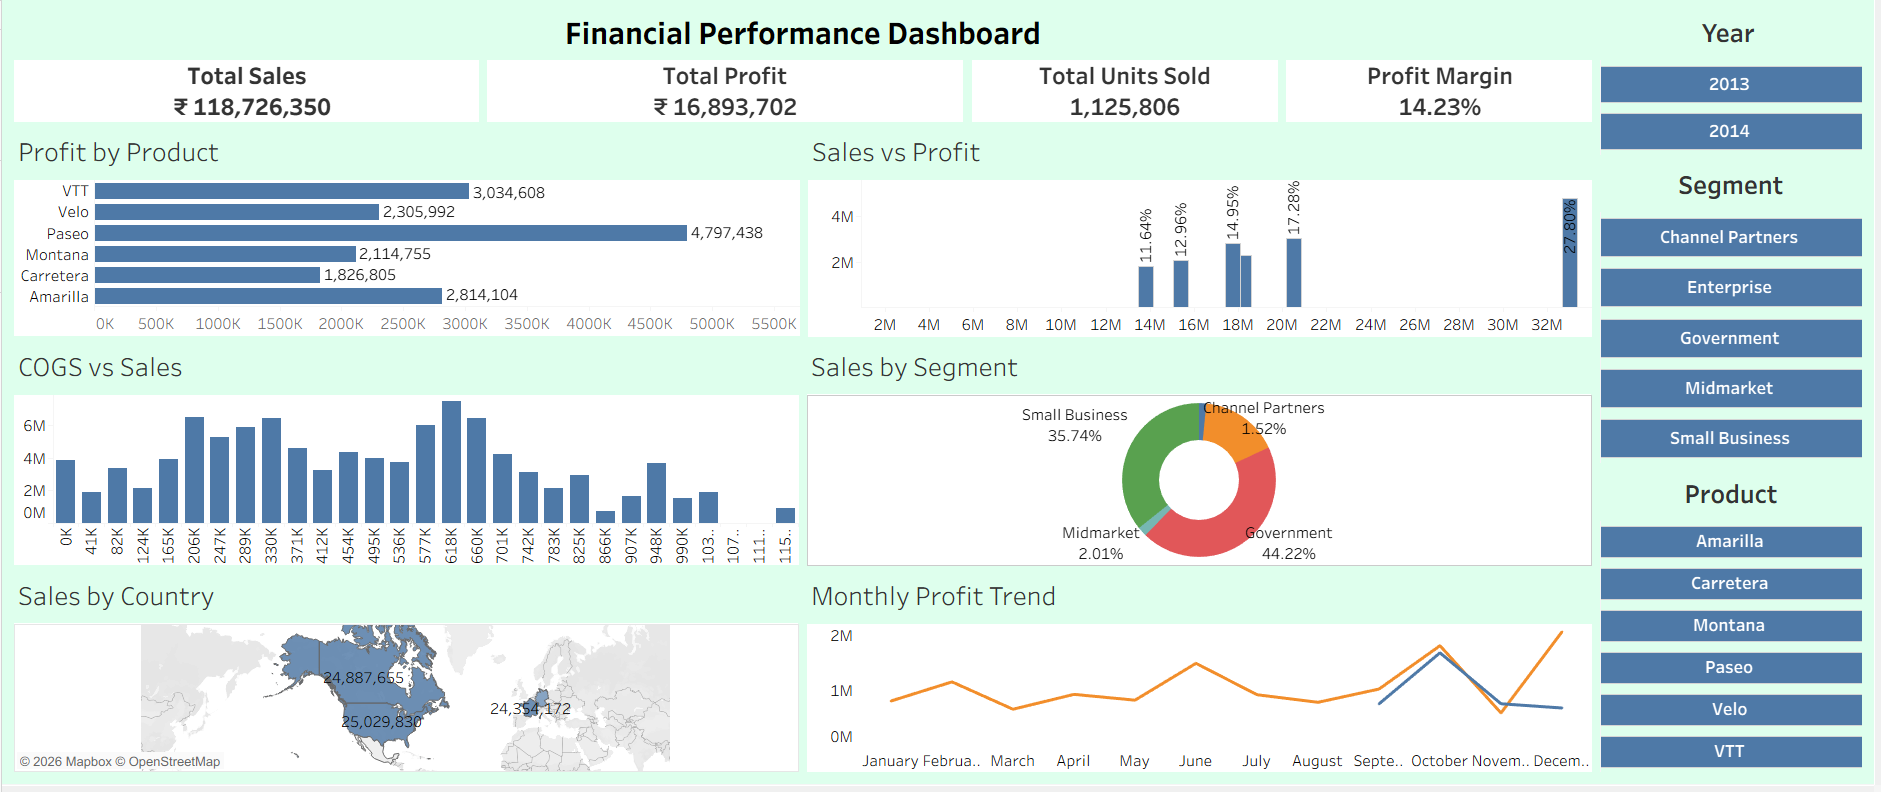

The dashboard page shown, as its layout file describes it:
{"tool":"tableau","page":{"name":"Dashboard 1","canvas":[1000,1000],"units":"permille","ordinal":0},"visuals":[{"type":"title","box":[4.8,10.2,846.5,62.4]},{"type":"worksheet","title":"Year ","mark":"Automatic","rows":["Year"],"cols":["Calculation_0629792956542977"],"box":[851.3,10.2,143.8,193.9]},{"type":"worksheet","title":"Total Sales","mark":"Automatic","box":[4.8,72.6,252.6,89.8]},{"type":"worksheet","title":"Total profit","mark":"Automatic","box":[257.4,72.6,258.4,89.8]},{"type":"worksheet","title":"Total Units Sold","mark":"Automatic","box":[515.8,72.6,167.7,89.8]},{"type":"worksheet","title":"Profit Margin","mark":"Automatic","box":[683.5,72.6,167.8,89.8]},{"type":"worksheet","title":"Profit by Product","mark":"Automatic","rows":["Product"],"cols":["Profit"],"box":[4.8,162.4,423.5,273.3]},{"type":"worksheet","title":"Sales vs Profit","mark":"Bar","rows":["Profit"],"cols":["Sales"],"box":[428.4,162.4,422.9,273.3]},{"type":"worksheet","title":"Segment","mark":"Automatic","rows":["Segment"],"cols":["Calculation_0629792957677571"],"box":[851.3,204.1,143.8,392.9]},{"type":"worksheet","title":"COGS vs Sales","mark":"Automatic","rows":["COGS"],"cols":["Sales (bin)"],"box":[4.8,435.7,423.2,291.7]},{"type":"worksheet","title":"Sales by Segment","mark":"Pie","rows":["Calculation_2752674991734790","Calculation_2752674991849480"],"box":[428.1,435.7,423.2,291.7]},{"type":"worksheet","title":"Product","mark":"Automatic","rows":["Product"],"cols":["Calculation_0629792958865413"],"box":[851.3,596.9,143.8,392.9]},{"type":"worksheet","title":"Sales by Country","mark":"Automatic","box":[4.8,727.4,423.2,262.4]},{"type":"worksheet","title":"Monthly Profit Trend","mark":"Automatic","rows":["Profit"],"cols":["Date"],"box":[428,727.4,423.3,262.4]}]}

Visuals, with their boxes on the dashboard's canvas, which has no fixed pixel size, in thousandths of its width and height (x1, y1, x2, y2). These are canvas units, not pixel positions in the 1881x792 screenshot, which may show the page scaled, cropped or inside an application window:
title: l=5, t=10, r=851, b=73
"Year " worksheet: l=851, t=10, r=995, b=204
"Total Sales" worksheet: l=5, t=73, r=257, b=162
"Total profit" worksheet: l=257, t=73, r=516, b=162
"Total Units Sold" worksheet: l=516, t=73, r=684, b=162
"Profit Margin" worksheet: l=684, t=73, r=851, b=162
"Profit by Product" worksheet: l=5, t=162, r=428, b=436
"Sales vs Profit" worksheet (Bar marks): l=428, t=162, r=851, b=436
"Segment" worksheet: l=851, t=204, r=995, b=597
"COGS vs Sales" worksheet: l=5, t=436, r=428, b=727
"Sales by Segment" worksheet (Pie marks): l=428, t=436, r=851, b=727
"Product" worksheet: l=851, t=597, r=995, b=990
"Sales by Country" worksheet: l=5, t=727, r=428, b=990
"Monthly Profit Trend" worksheet: l=428, t=727, r=851, b=990
